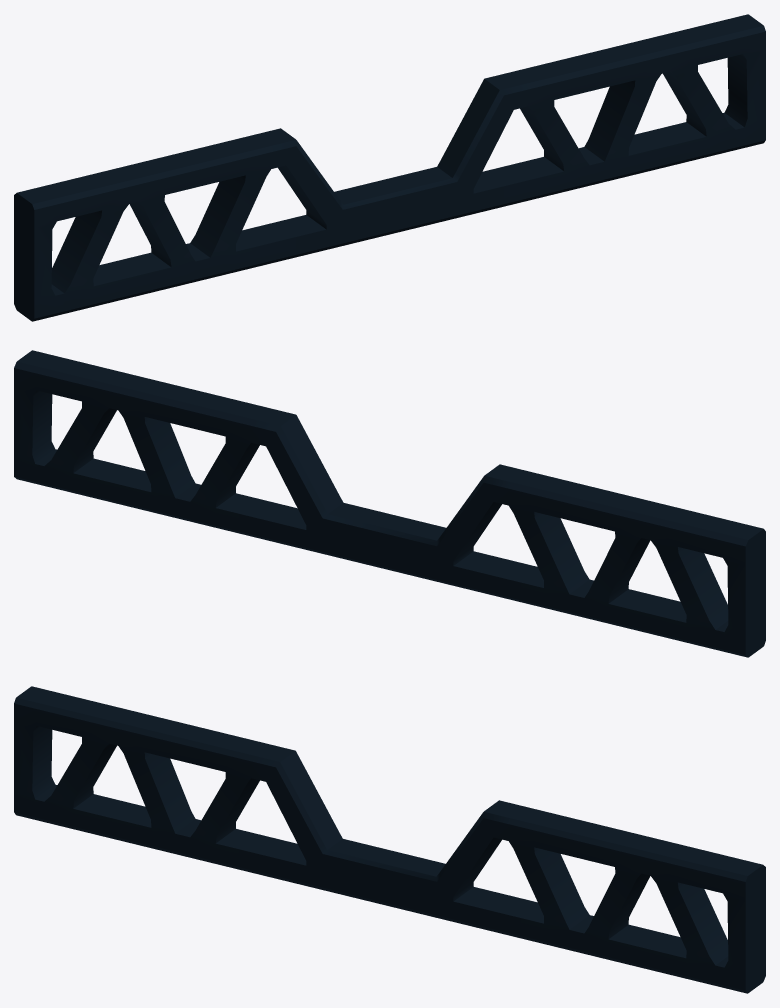
Rendered from Module_Ss_ass_stru1.FBX.
3 views of the same model, one above another, from view 1: azimuth 30°, elevation 25°; view 2: azimuth 150°, elevation 25°; view 3: azimuth 330°, elevation 25° (orthographic).
Visible parts, largest first — view 1: Module_Ss_ass_stru1; view 2: Module_Ss_ass_stru1; view 3: Module_Ss_ass_stru1.
Boxes of the visible parts, x1,y1,x2,y2 form: Module_Ss_ass_stru1: [14, 14, 765, 321]; Module_Ss_ass_stru1: [14, 350, 765, 657]; Module_Ss_ass_stru1: [14, 686, 765, 993].
Bounding box in the file's own units: 97.04 × 14.9 × 4.65.
